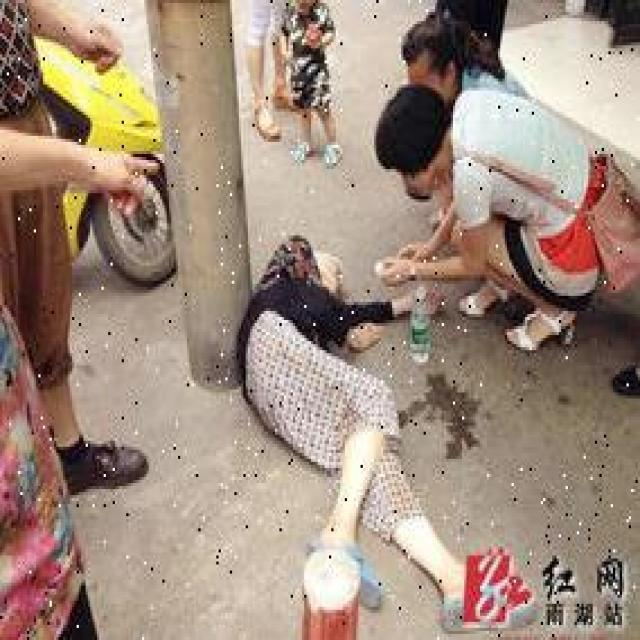fall: (250, 235, 462, 600)
